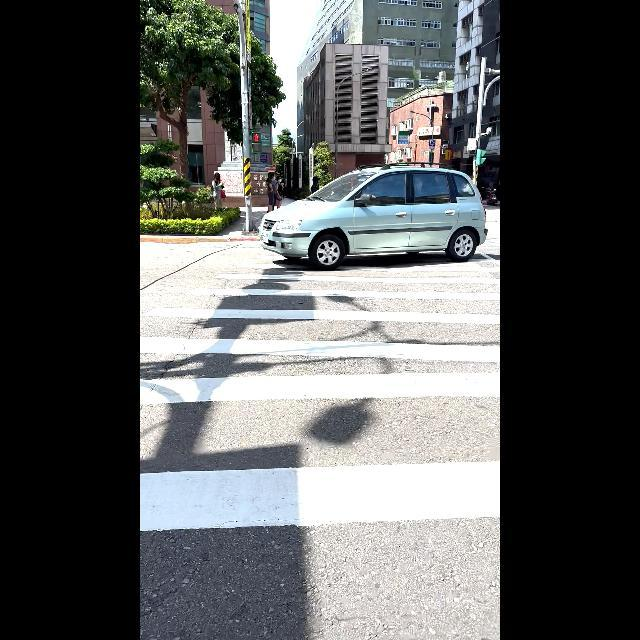sidewalk: (141, 236, 499, 531)
